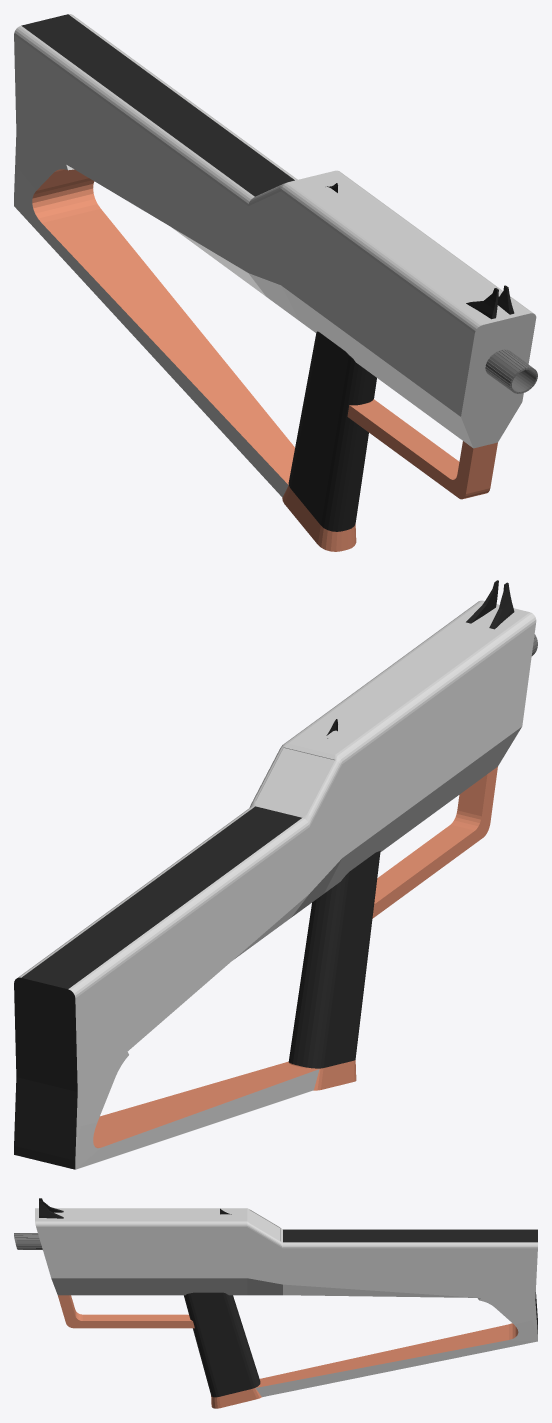
Rendered from Gun.glb.
3 renders of one model, top to bottom at view 1: azimuth 30°, elevation 25°; view 2: azimuth 150°, elevation 25°; view 3: azimuth 270°, elevation 25°, orthographic. The views are drawn at different scales.
Parts seen in each view (by area): view 1: Gun; view 2: Gun; view 3: Gun.
Boxes of the visible parts, x1=… form: Gun: x1=14, y1=14, x2=537, y2=551; Gun: x1=14, y1=580, x2=537, y2=1169; Gun: x1=14, y1=1198, x2=537, y2=1408.
Bounding box in the file's own units: 0.5082 × 2.99 × 6.9.
